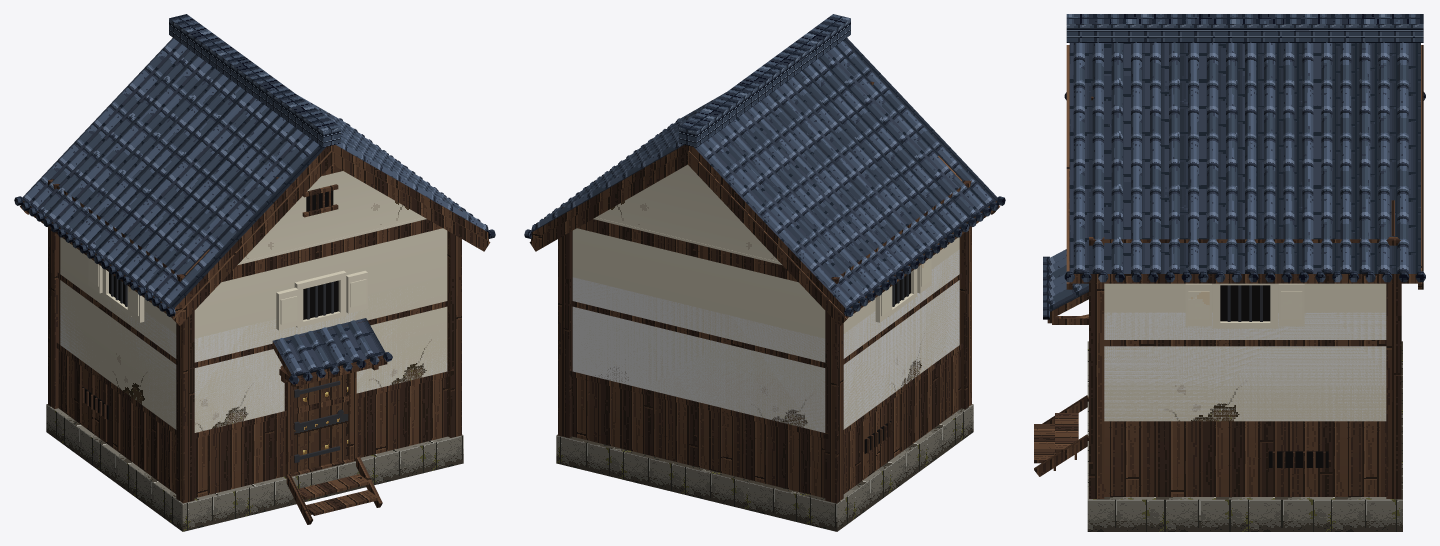
File: JP_Rich_Storehouse_A.glb
3 views of the same model, side by side, from view 1: azimuth 30°, elevation 25°; view 2: azimuth 150°, elevation 25°; view 3: azimuth 270°, elevation 25° (orthographic). The views are drawn at different scales.
Parts seen in each view (by area): view 1: JP_Rich_Storehouse_A, COL_JP_Rich_Storehouse_A; view 2: JP_Rich_Storehouse_A, COL_JP_Rich_Storehouse_A; view 3: JP_Rich_Storehouse_A, COL_JP_Rich_Storehouse_A.
Boxes of the visible parts, x1,y1,x2,y2 form: JP_Rich_Storehouse_A: (14, 14, 495, 531); COL_JP_Rich_Storehouse_A: (60, 281, 447, 431); JP_Rich_Storehouse_A: (524, 14, 1005, 531); COL_JP_Rich_Storehouse_A: (572, 249, 959, 432); JP_Rich_Storehouse_A: (1034, 14, 1425, 531); COL_JP_Rich_Storehouse_A: (1104, 312, 1386, 420).
Bounding box in the file's own units: 7.3 × 8.11 × 6.59.
11 materials, 11 textured.
